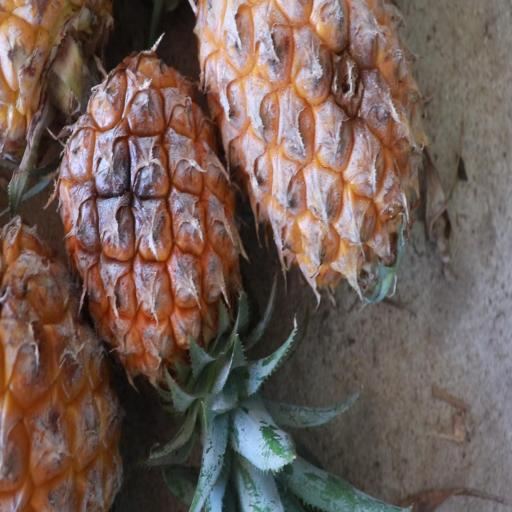Pineapple - v8 v1: (50, 39, 240, 477), (186, 0, 426, 309)
